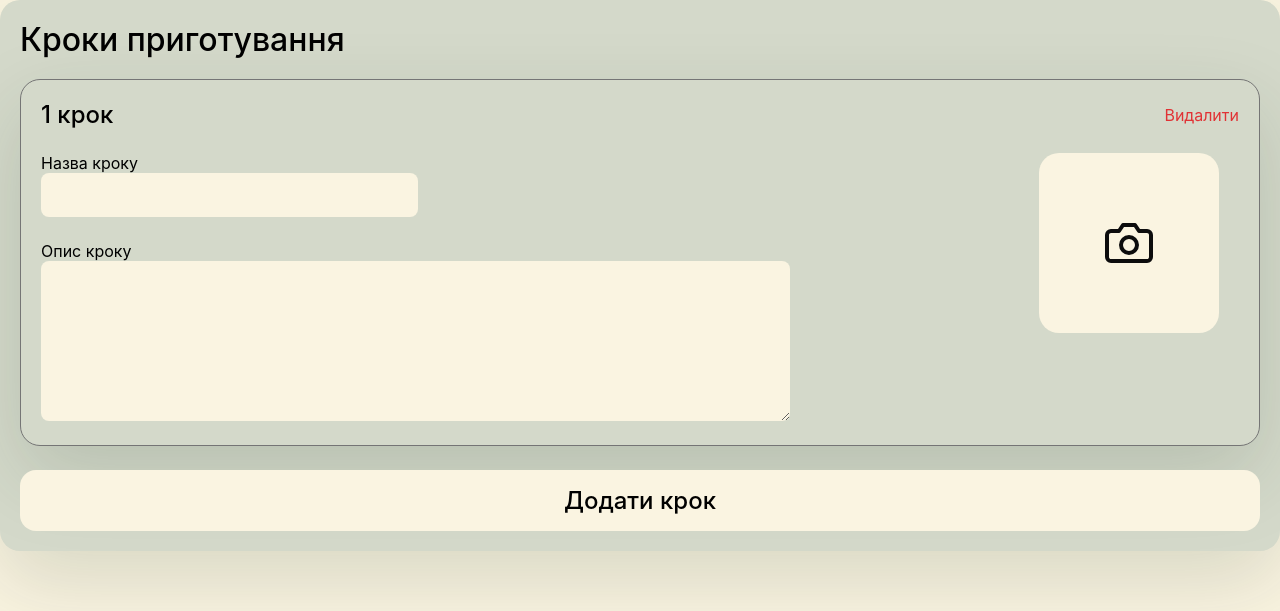
Test: <Steps /> › обробляє введення тексту та додавання нових кроків
Type "Закипʼятити воду" into the field with id "0-step-name" at (230, 195), box 41,173 -> 418,217
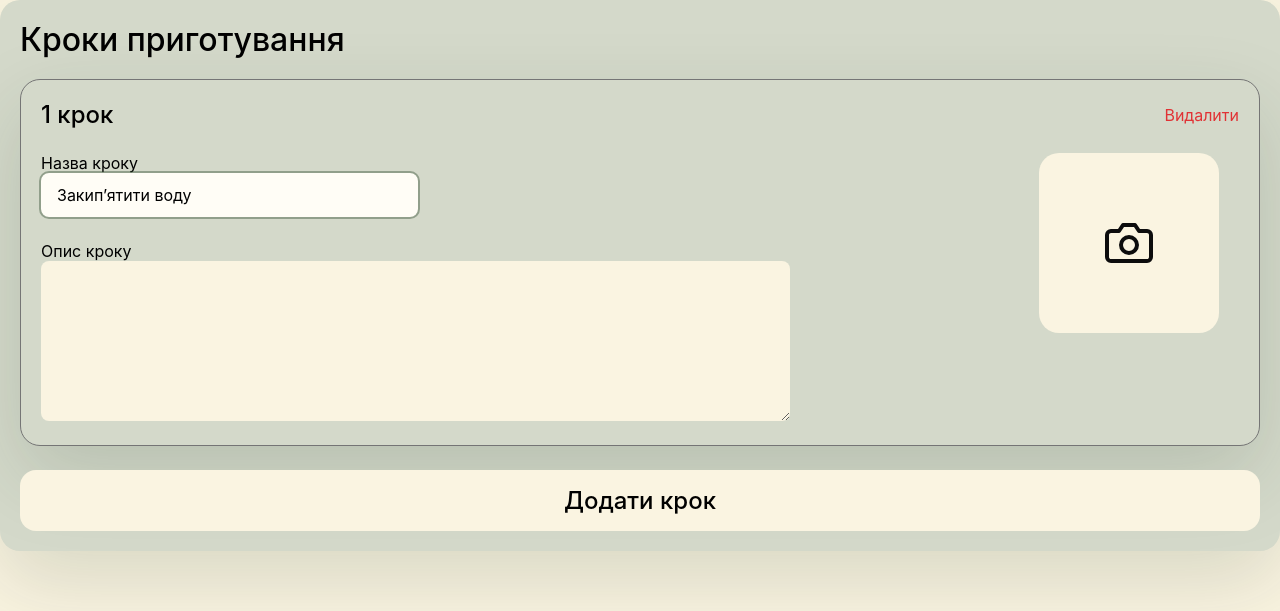
Type "100 градусів" into the text box with id "0-step-description" at (416, 341), box 41,261 -> 790,421
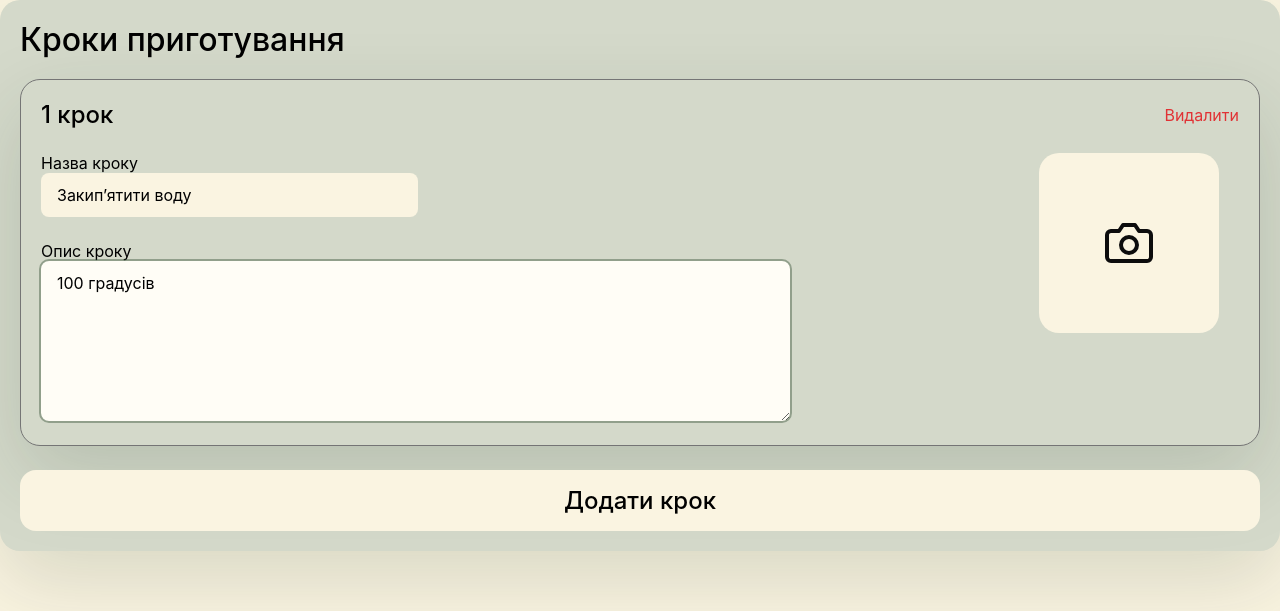
Click the button "Додати крок" at (640, 501), box 20,470 -> 1260,531
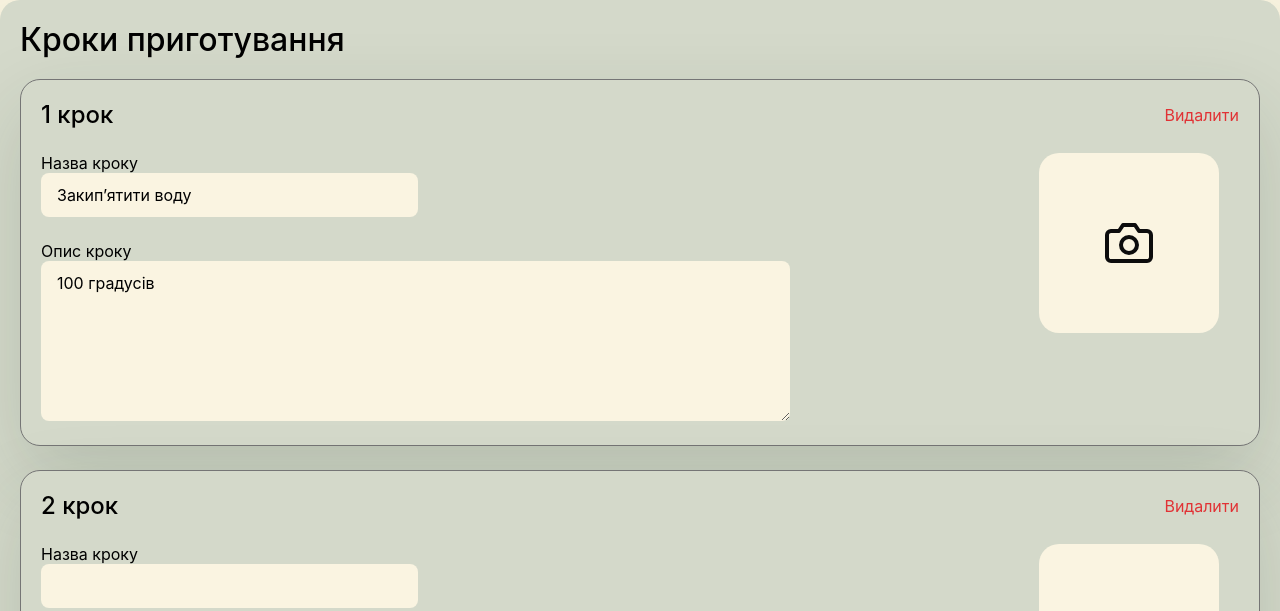
Expected: the heading "2 крок" is shown, 41,491 -> 118,520
